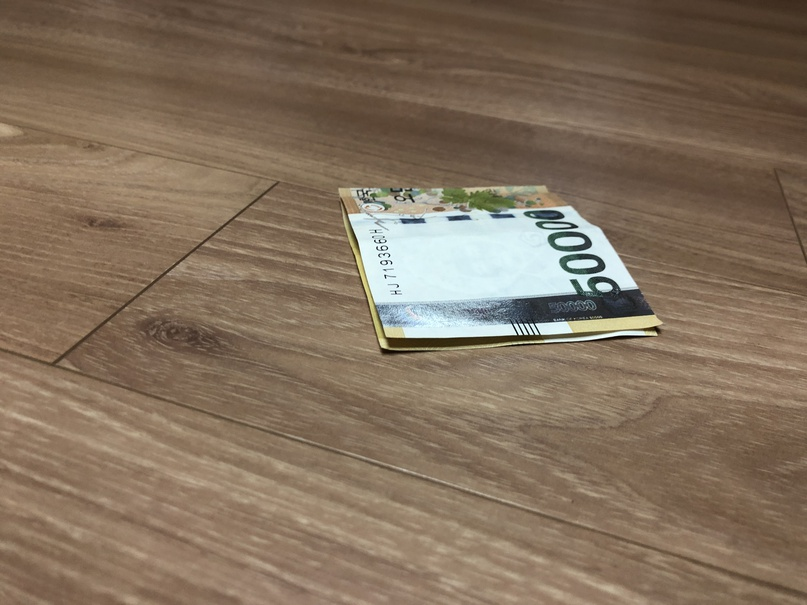50000won: (337, 185, 665, 352)
